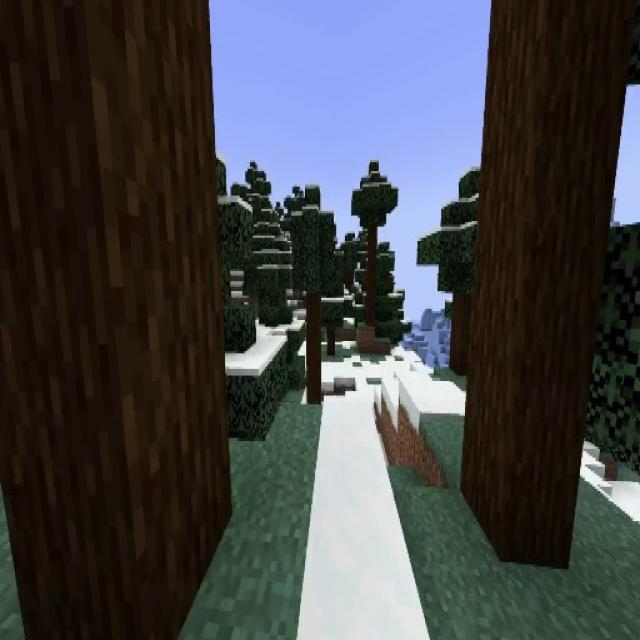spruce: (426, 169, 502, 375), (290, 189, 334, 402), (350, 159, 398, 342)
spruce_log: (0, 0, 230, 640), (461, 0, 619, 571), (306, 297, 321, 400), (452, 296, 469, 374), (368, 227, 377, 320), (328, 332, 334, 356)
